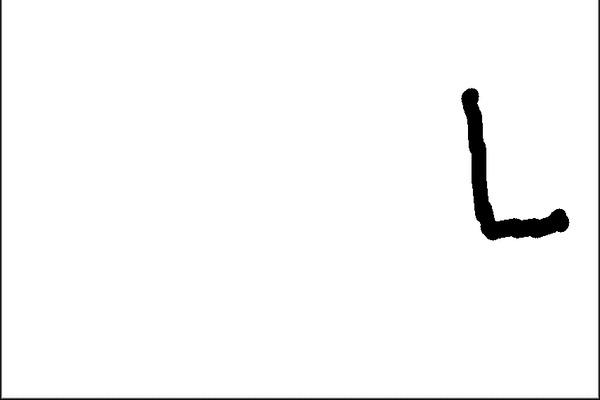L: (454, 78, 571, 245)
